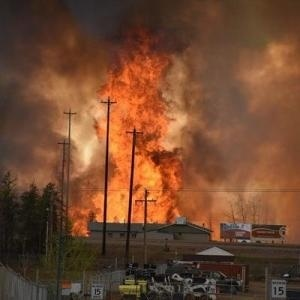fire: (69, 30, 213, 222)
